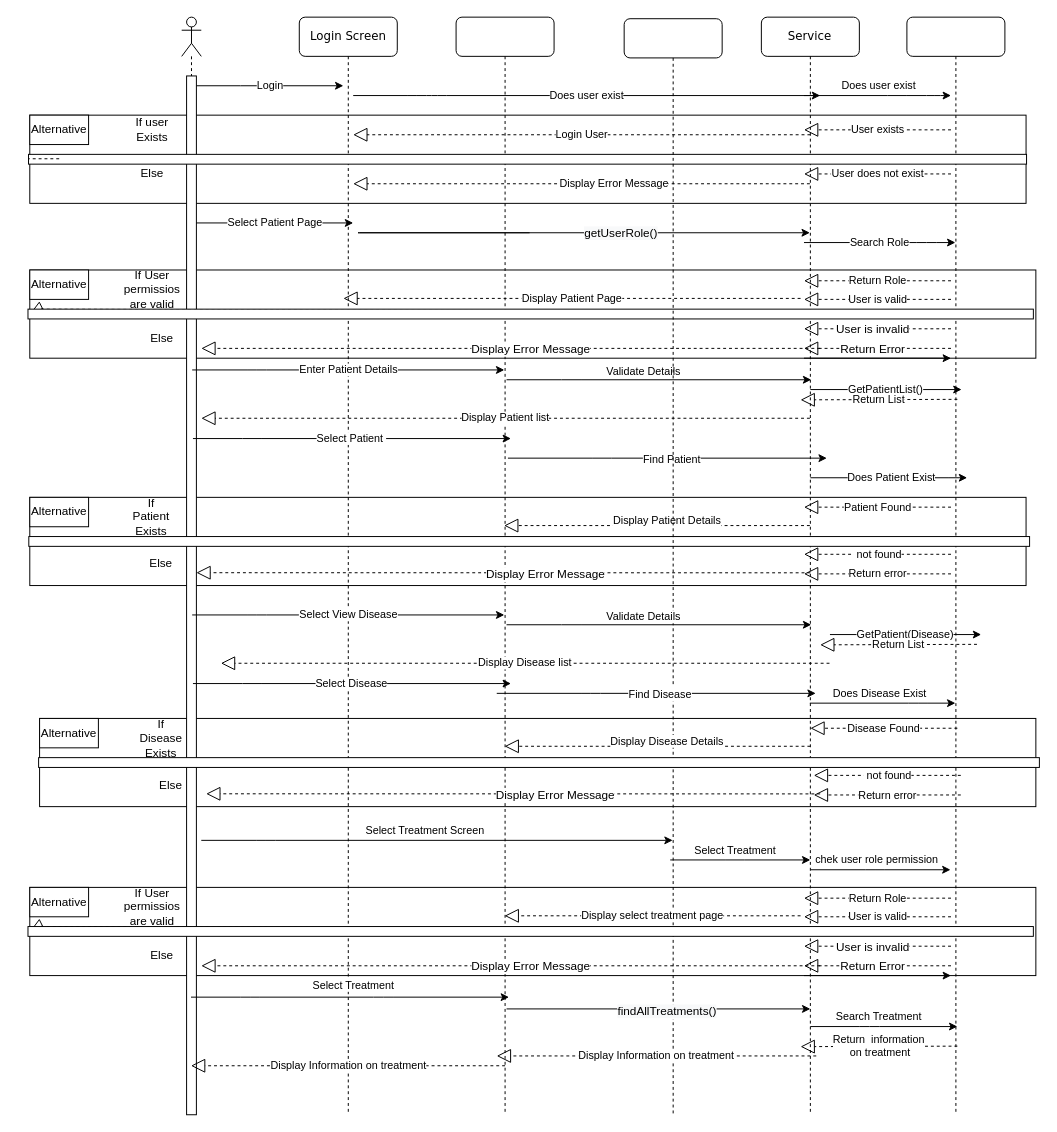
Image size: 1057x1132. Some labels were removed from this diagram. Here are the shapes that lost their labels. From the top down, the box of each, then its label:
(181, 16, 201, 1115): User
(455, 16, 554, 1115): Home Page
(623, 18, 722, 1115): Treatment Screen
(906, 16, 1005, 1115): Database
